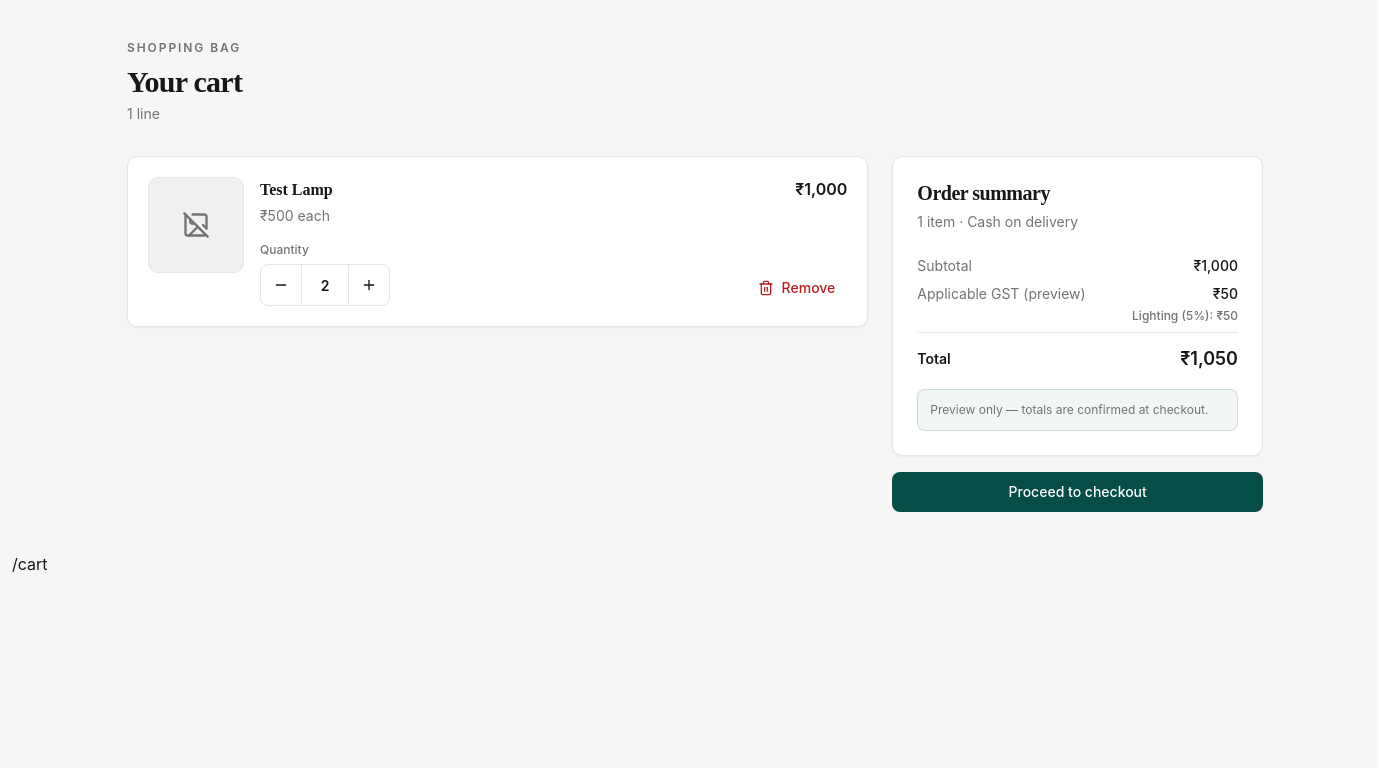
Test: CartPage › updates quantity and reconciles authoritative totals from the response
This screenshot has width=1378, height=768.
Check: the link "Test Lamp" is shown, box [260,181,333,198]
Click the button named "Increase quantity" at (369, 285), box [349,265,389,305]
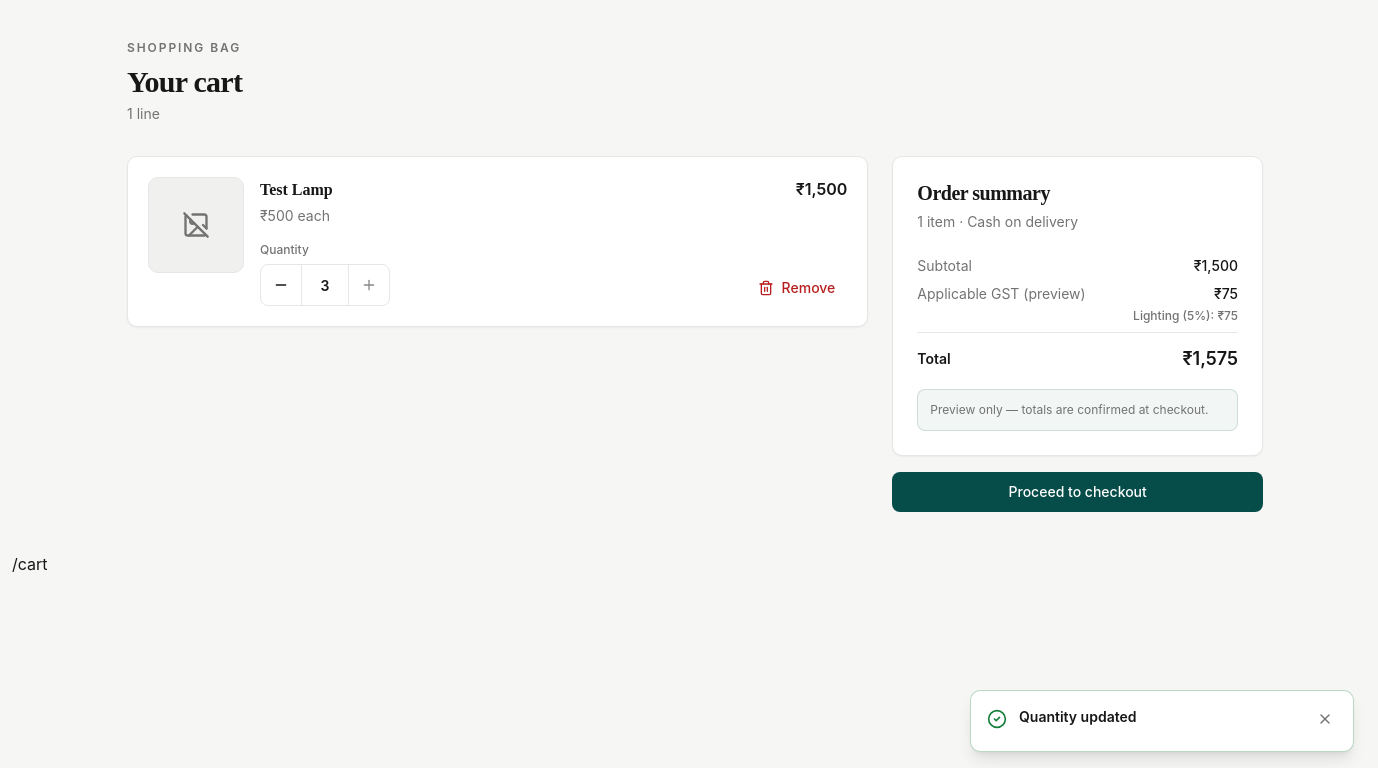
Check: the text "Quantity updated" is shown, box [1019,708,1136,725]
Check: the text "₹1,575" is shown, box [1182,345,1238,373]
